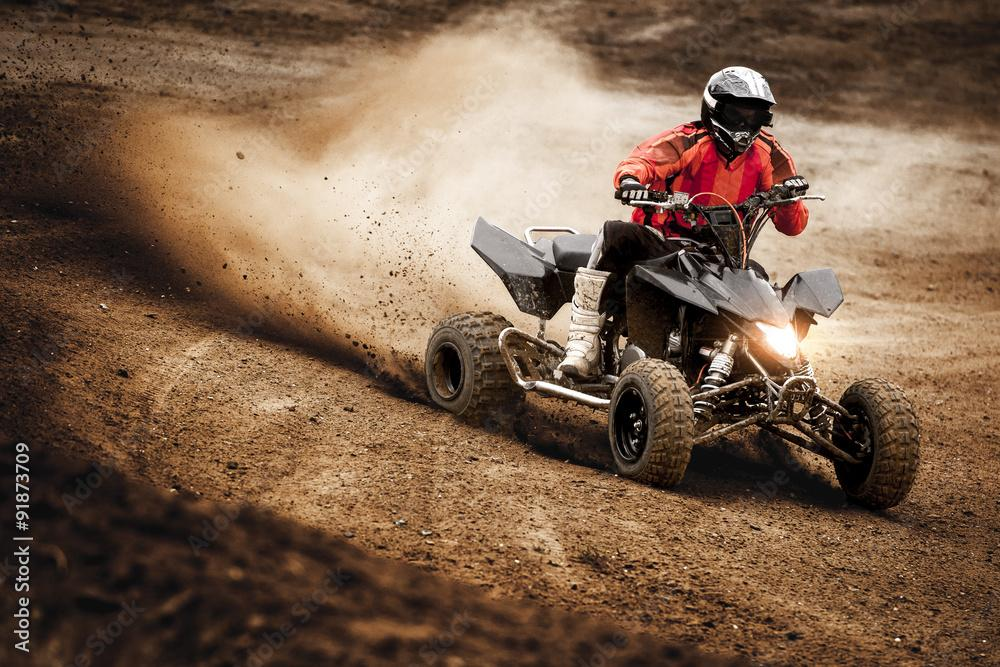helmet: (700, 64, 778, 157)
